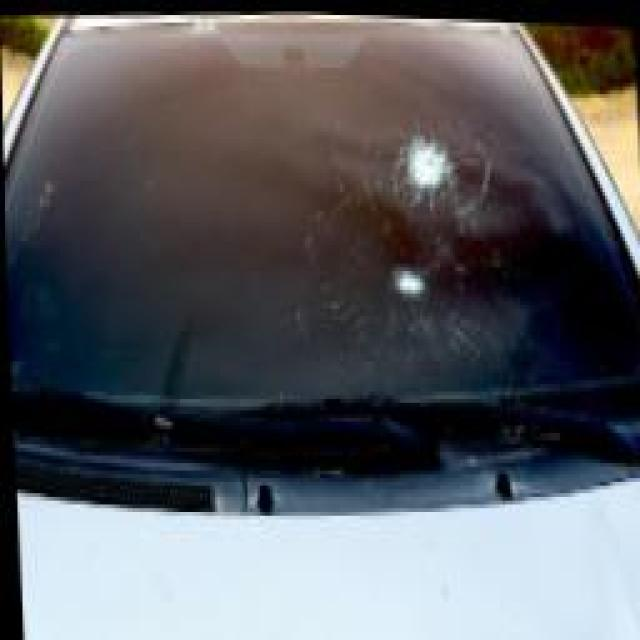Windshield: (0, 0, 640, 474)
